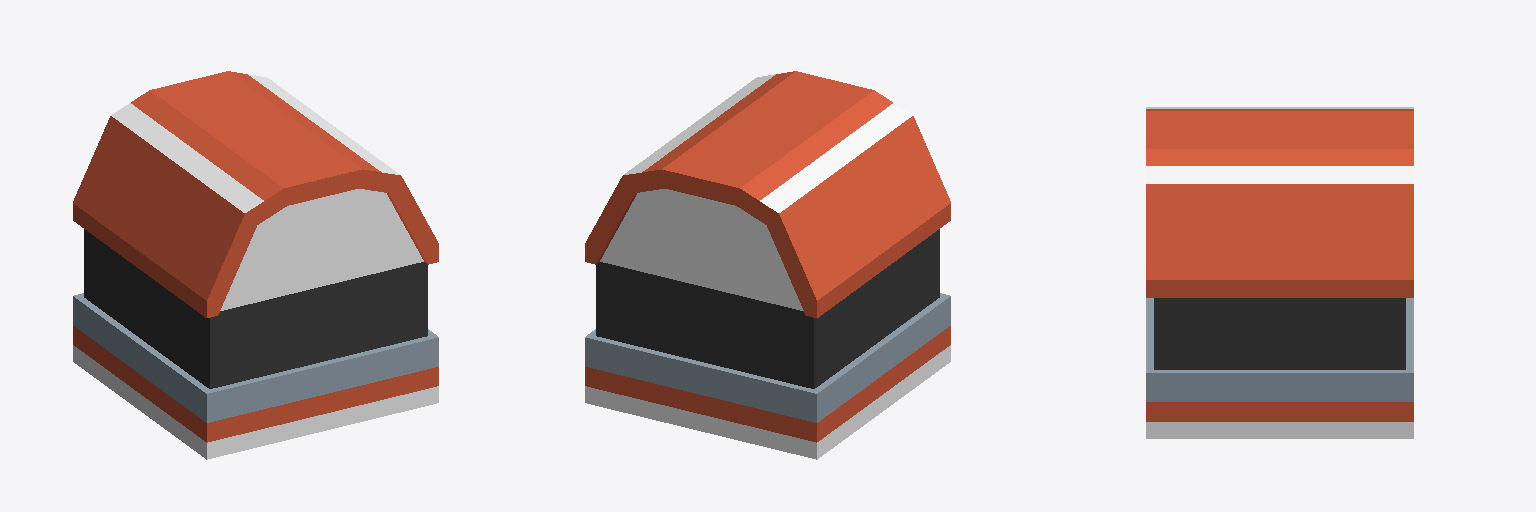
Rendered from buildingCorridor.obj.
3 renders of one model, left to right at view 1: azimuth 30°, elevation 25°; view 2: azimuth 150°, elevation 25°; view 3: azimuth 270°, elevation 25°, orthographic.
Visible parts, largest first — view 1: buildingCorridor; view 2: buildingCorridor; view 3: buildingCorridor.
Part boxes in pixels (left/top/right/bottom): buildingCorridor: left=73, top=71, right=438, bottom=459; buildingCorridor: left=585, top=71, right=950, bottom=459; buildingCorridor: left=1146, top=107, right=1413, bottom=438.
Size of the model in its own units: 10 by 10.37 by 10.